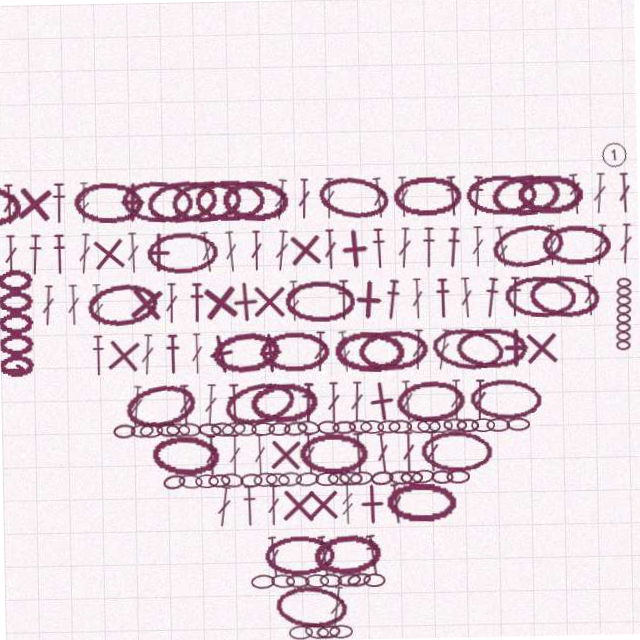chain: (220, 376, 296, 430), (121, 377, 198, 429), (491, 224, 567, 275), (318, 173, 393, 224), (429, 327, 505, 377), (147, 175, 221, 223), (269, 583, 344, 630), (86, 277, 159, 325), (528, 277, 601, 324), (492, 175, 565, 222), (172, 176, 246, 222), (210, 328, 282, 375), (123, 176, 197, 221), (504, 278, 577, 323), (308, 533, 379, 578), (148, 431, 219, 476), (468, 381, 540, 425), (357, 330, 429, 374), (418, 432, 491, 475), (455, 330, 528, 373), (394, 381, 465, 425), (333, 330, 404, 374), (223, 177, 293, 221), (382, 483, 453, 526), (296, 432, 367, 475), (148, 229, 220, 271), (248, 381, 318, 424), (75, 177, 145, 220), (468, 178, 540, 219), (285, 280, 355, 322), (259, 331, 330, 372), (197, 178, 268, 219), (543, 229, 612, 271), (260, 535, 330, 576), (395, 178, 465, 219), (519, 178, 587, 220), (0, 175, 25, 223), (159, 470, 184, 488), (298, 623, 324, 640), (341, 572, 367, 589), (219, 419, 244, 436), (294, 419, 319, 436), (217, 470, 241, 487), (408, 470, 432, 487), (310, 624, 335, 640), (280, 573, 305, 589), (175, 471, 200, 487), (262, 471, 287, 487), (292, 471, 317, 487), (346, 471, 371, 487), (385, 471, 410, 487), (195, 420, 220, 436), (281, 420, 306, 436), (404, 420, 429, 436), (324, 471, 348, 487), (367, 471, 391, 487), (250, 471, 275, 486), (335, 471, 360, 486), (137, 420, 162, 435), (208, 420, 233, 435), (346, 420, 371, 435), (246, 573, 270, 588), (266, 573, 290, 588), (314, 573, 338, 588), (332, 573, 356, 588), (275, 471, 299, 486), (128, 420, 152, 435), (154, 420, 178, 435), (164, 420, 188, 435), (231, 420, 255, 435), (441, 420, 465, 435), (111, 420, 134, 435), (176, 420, 199, 435), (315, 420, 338, 435), (283, 625, 307, 639), (323, 625, 347, 639), (300, 574, 324, 588), (192, 472, 216, 486), (312, 472, 336, 486), (443, 472, 467, 486), (249, 421, 273, 435), (330, 421, 354, 435), (358, 421, 382, 435), (375, 421, 399, 435), (386, 421, 410, 435), (415, 421, 439, 435), (427, 421, 451, 435), (469, 421, 493, 435), (484, 421, 508, 435), (504, 421, 528, 435), (358, 574, 381, 588), (205, 472, 228, 486), (237, 472, 260, 486), (397, 472, 420, 486), (428, 472, 451, 486), (266, 421, 289, 435), (454, 421, 477, 435)
double: (322, 586, 341, 628), (211, 484, 230, 526), (433, 331, 452, 373), (199, 229, 218, 271), (311, 535, 329, 577), (274, 229, 292, 271), (593, 229, 611, 271), (274, 178, 292, 220), (372, 178, 390, 220), (261, 535, 278, 577), (372, 433, 389, 475), (224, 229, 241, 271), (385, 484, 401, 526), (127, 382, 143, 424), (299, 433, 315, 474), (201, 382, 217, 423), (398, 382, 414, 423), (139, 331, 155, 372), (459, 280, 475, 321), (582, 280, 598, 321), (78, 229, 94, 270), (398, 229, 414, 270), (619, 229, 635, 270), (594, 178, 610, 219), (176, 382, 191, 423), (348, 382, 363, 423), (471, 382, 486, 423), (312, 331, 327, 372), (410, 331, 425, 372), (41, 280, 56, 321), (127, 229, 142, 270), (324, 229, 339, 270), (4, 178, 19, 219), (299, 178, 314, 219), (398, 178, 413, 219), (263, 484, 277, 525), (202, 433, 216, 474), (399, 433, 413, 474), (423, 433, 437, 474), (325, 382, 339, 423), (448, 382, 462, 423), (67, 280, 81, 321), (165, 280, 179, 321), (411, 280, 425, 321), (5, 229, 19, 270), (472, 229, 486, 270), (546, 229, 560, 270), (620, 178, 634, 219), (226, 433, 239, 474), (251, 433, 264, 474), (190, 331, 203, 372), (251, 229, 264, 270), (325, 178, 338, 219)
enseble_chain: (0, 263, 38, 376), (614, 283, 633, 357)
half_double: (358, 535, 379, 577), (383, 280, 403, 322), (482, 280, 502, 322), (446, 229, 464, 271), (470, 178, 488, 220), (298, 382, 315, 423), (507, 280, 524, 321), (28, 229, 45, 270), (372, 229, 389, 270), (446, 178, 463, 219), (238, 484, 254, 525), (348, 433, 364, 474), (225, 382, 241, 423), (164, 331, 180, 372), (189, 280, 205, 321), (336, 280, 352, 321), (435, 280, 451, 321), (422, 229, 438, 270), (53, 178, 69, 219), (90, 331, 105, 372), (53, 229, 68, 270)
noise: (602, 145, 632, 175), (1, 359, 26, 369)
single: (197, 328, 245, 376), (358, 380, 403, 425), (124, 278, 169, 323), (198, 278, 243, 323), (14, 176, 59, 221), (101, 330, 145, 374), (248, 330, 292, 374), (88, 228, 132, 272), (224, 279, 267, 322), (347, 279, 390, 322), (285, 228, 328, 271), (334, 228, 377, 271), (274, 484, 316, 526), (348, 484, 390, 526), (262, 433, 304, 475), (520, 331, 562, 373), (114, 178, 156, 220), (299, 484, 340, 525), (495, 331, 536, 372), (249, 280, 290, 321), (139, 229, 180, 270)
treble: (494, 229, 513, 271), (335, 331, 353, 373), (569, 178, 586, 220), (90, 280, 106, 321), (337, 484, 351, 525), (79, 178, 93, 219), (288, 280, 301, 321)
